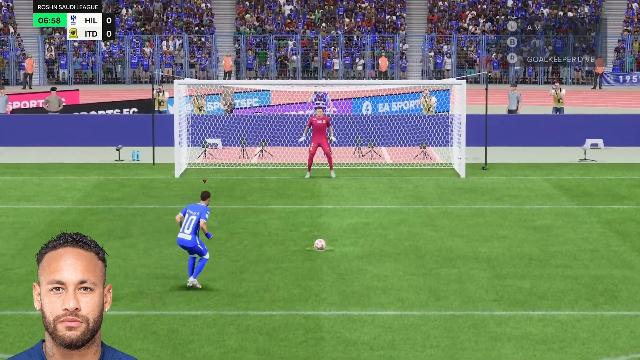circle: (306, 246, 334, 250)
football: (314, 240, 326, 248)
goal-bottom-left: (182, 140, 280, 180)
goal-bottom-right: (364, 140, 460, 180)
goal-middle-down: (282, 140, 362, 180)
goal-middle-up: (281, 87, 363, 139)
goal-top-left: (182, 88, 278, 138)
goal-top-right: (364, 88, 460, 139)
goalkeeper: (302, 107, 342, 181)
player: (170, 190, 226, 288)
